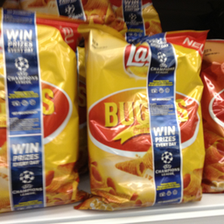chips: (81, 24, 208, 209), (1, 14, 80, 213)
